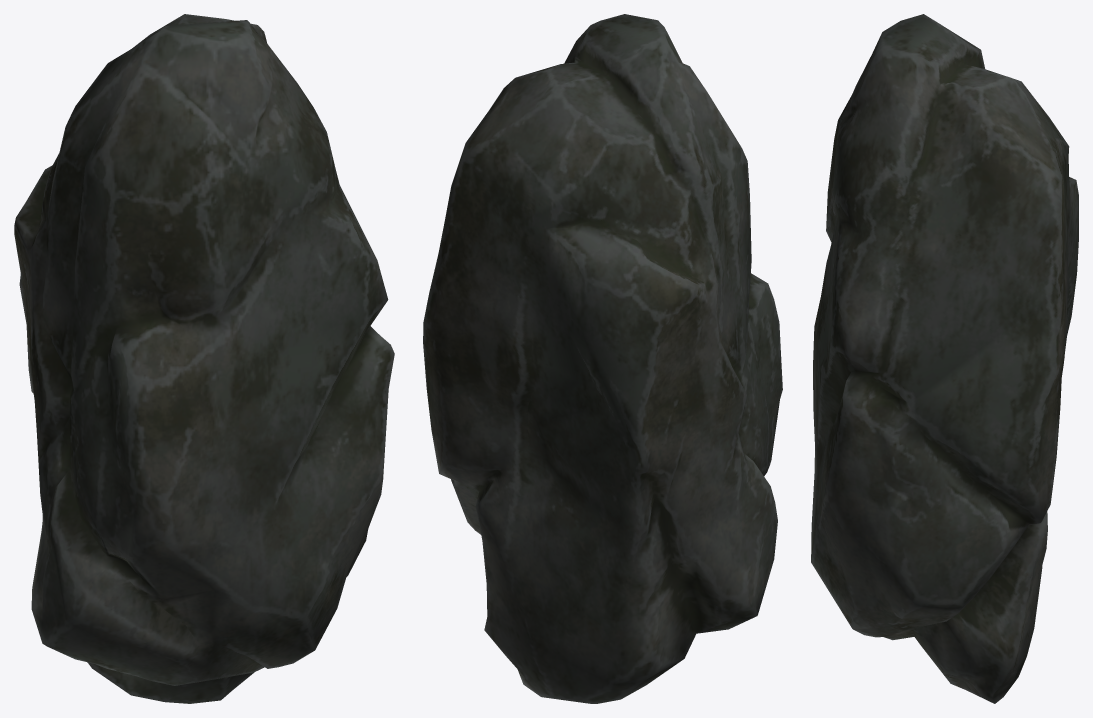
The picture shows the model from 3 angles, left to right: view 1: azimuth 30°, elevation 25°; view 2: azimuth 150°, elevation 25°; view 3: azimuth 270°, elevation 25°; orthographic projection. The views are drawn at different scales.
Visible parts, largest first — view 1: models_mountain_chunk_c-0-lambert1; view 2: models_mountain_chunk_c-0-lambert1; view 3: models_mountain_chunk_c-0-lambert1.
Boxes of the visible parts, left/top/right/bottom form: models_mountain_chunk_c-0-lambert1: left=14, top=14, right=394, bottom=703; models_mountain_chunk_c-0-lambert1: left=423, top=14, right=782, bottom=703; models_mountain_chunk_c-0-lambert1: left=811, top=14, right=1078, bottom=703.
Size of the model in its own units: 5.84 by 12.41 by 4.67.
Materials: 1 (1 with a texture image).
